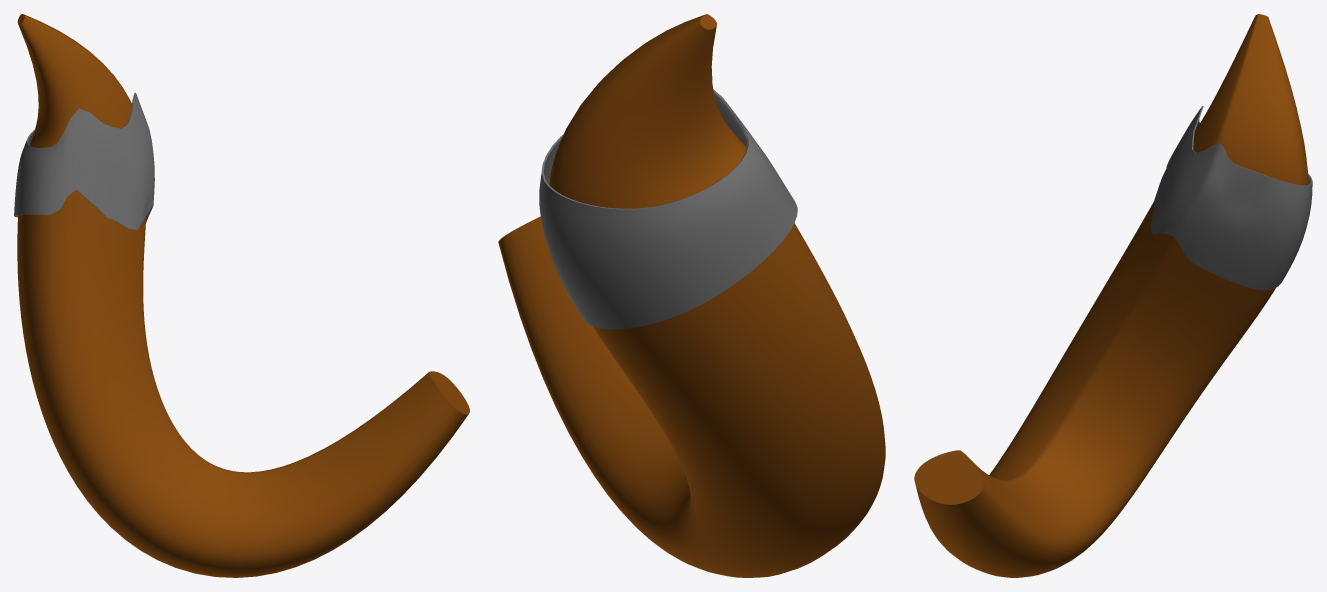
3 renders of one model, left to right at view 1: azimuth 30°, elevation 25°; view 2: azimuth 150°, elevation 25°; view 3: azimuth 270°, elevation 25°, orthographic. The views are drawn at different scales.
Parts seen in each view (by area): view 1: Elec_Back_007; view 2: Elec_Back_007; view 3: Elec_Back_007.
Boxes of the visible parts, bbox=[...] form: Elec_Back_007: bbox=[14, 14, 469, 577]; Elec_Back_007: bbox=[498, 14, 885, 577]; Elec_Back_007: bbox=[914, 14, 1312, 577].
Size of the model in its own units: 102 by 104 by 144.
